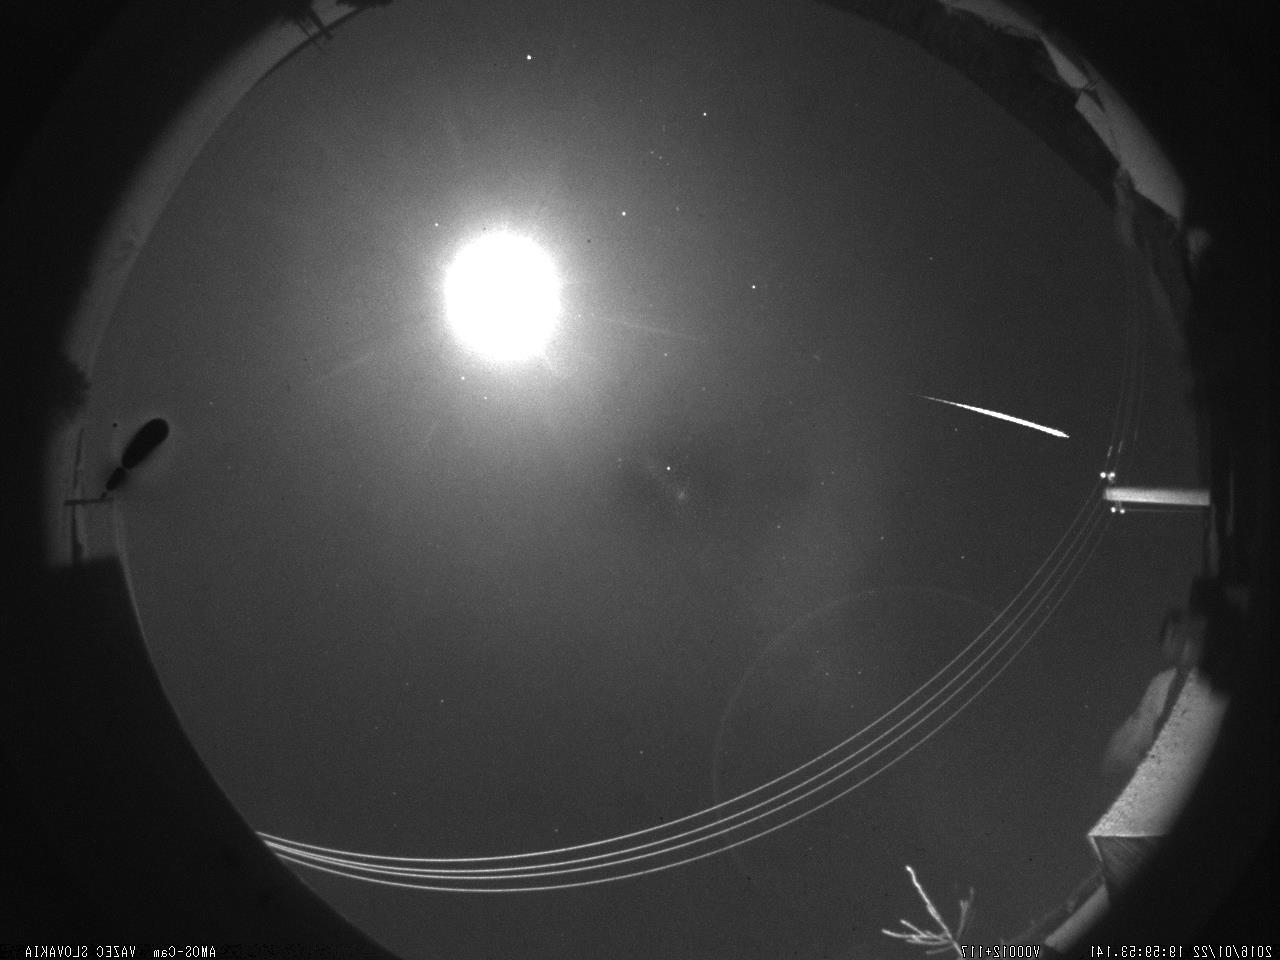meteor: (891, 379, 1110, 449)
